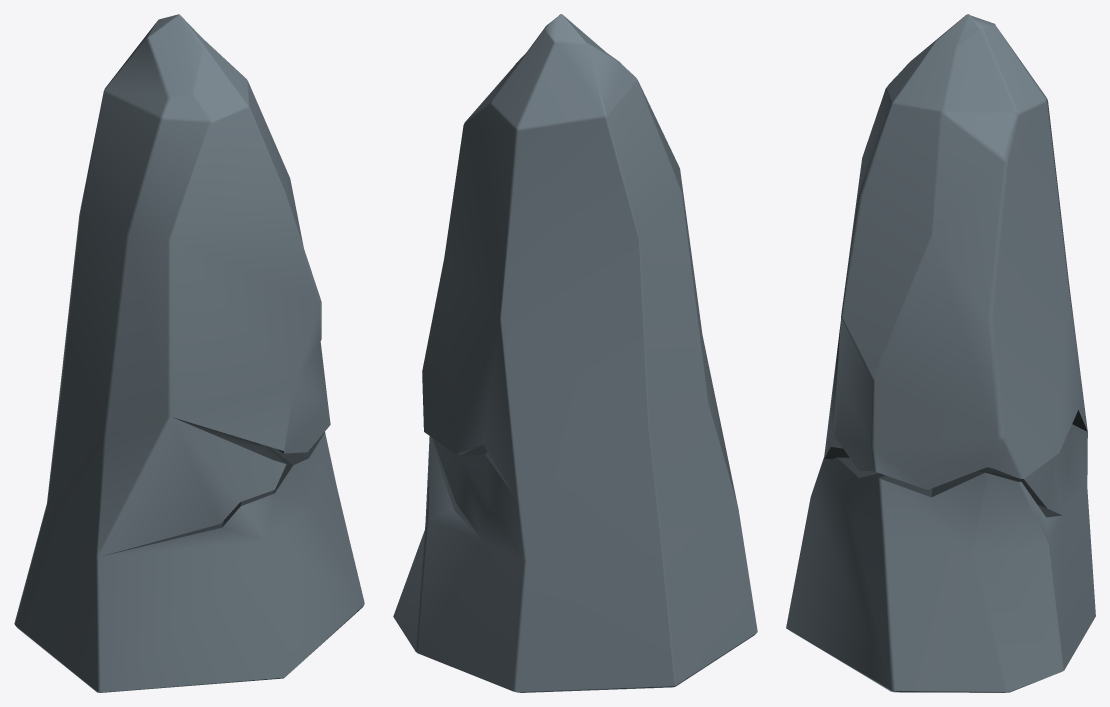
The model's file is PT_Menhir_Rock_02.glb.
3 renders of one model, left to right at view 1: azimuth 30°, elevation 25°; view 2: azimuth 150°, elevation 25°; view 3: azimuth 270°, elevation 25°, orthographic. The views are drawn at different scales.
Visible parts, largest first — view 1: PT_Menhir_Rock_02_LOD0; view 2: PT_Menhir_Rock_02_LOD0; view 3: PT_Menhir_Rock_02_LOD0.
Boxes of the visible parts, bbox=[...] form: PT_Menhir_Rock_02_LOD0: bbox=[14, 14, 364, 692]; PT_Menhir_Rock_02_LOD0: bbox=[393, 14, 757, 692]; PT_Menhir_Rock_02_LOD0: bbox=[786, 14, 1095, 692].
Bounding box in the file's own units: 1.36 × 2.8 × 1.26.
1 material, 1 textured.
